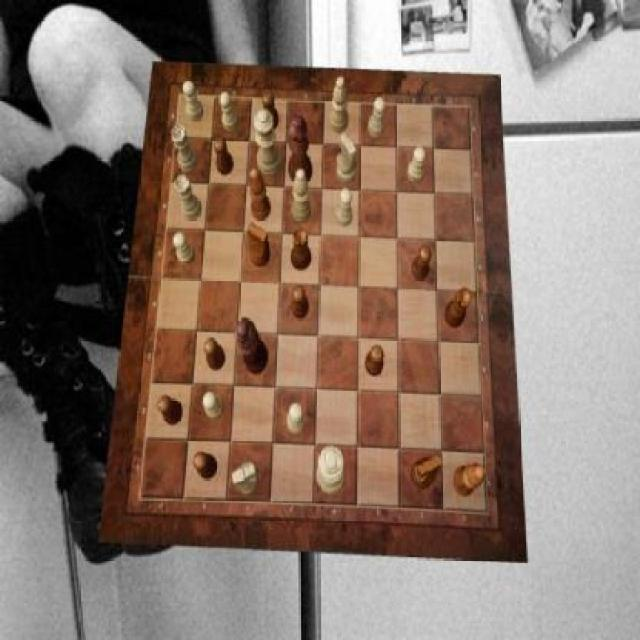bishop: (249, 168, 272, 222), (452, 463, 486, 497)
black-bishop: (236, 317, 270, 375)
black-king: (411, 455, 442, 490), (248, 221, 270, 267)
black-knight: (157, 396, 183, 426), (214, 137, 234, 175), (204, 337, 226, 371), (411, 246, 432, 281), (263, 92, 280, 132), (194, 452, 218, 480), (364, 345, 384, 377), (291, 284, 308, 318)
black-pawn: (289, 116, 314, 186)
black-queen: (445, 288, 472, 328), (290, 228, 312, 272)
black-rook: (291, 169, 311, 223), (329, 77, 348, 133)
white-bishop: (317, 446, 346, 496)
white-king: (336, 134, 356, 184), (232, 462, 260, 496)
white-knight: (183, 80, 203, 122), (220, 92, 240, 132), (172, 232, 195, 266), (368, 97, 385, 138), (337, 189, 354, 227), (286, 403, 306, 435), (408, 148, 425, 184), (203, 392, 224, 420)
white-pawn: (254, 110, 283, 176)
white-queen: (170, 126, 198, 174), (174, 176, 201, 222)
